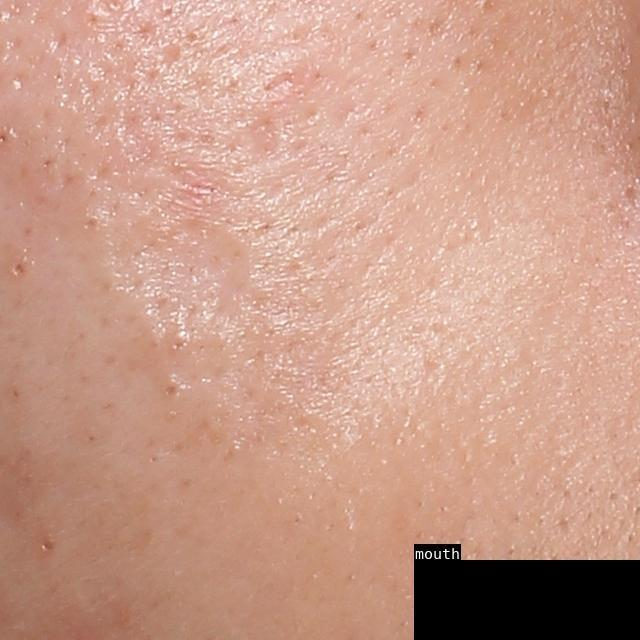atrophic_scar: (98, 169, 258, 424), (231, 118, 283, 169)
comedo: (159, 375, 191, 406), (7, 260, 32, 286)
